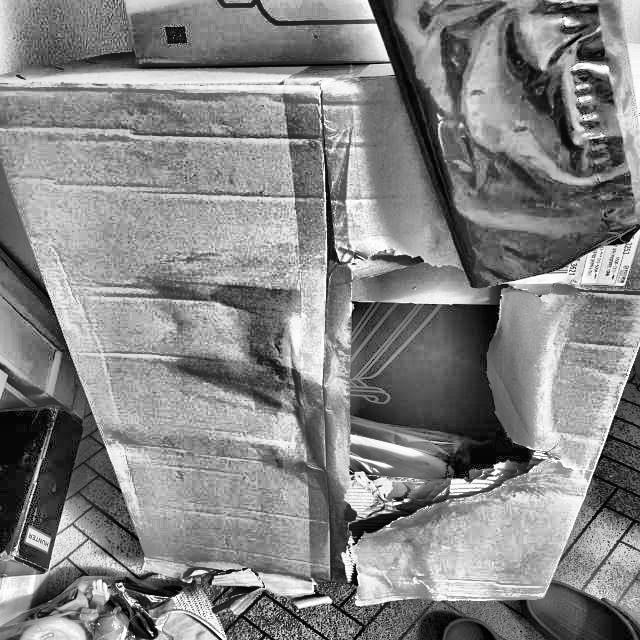box: (0, 39, 639, 611)
hole: (334, 259, 556, 536)
